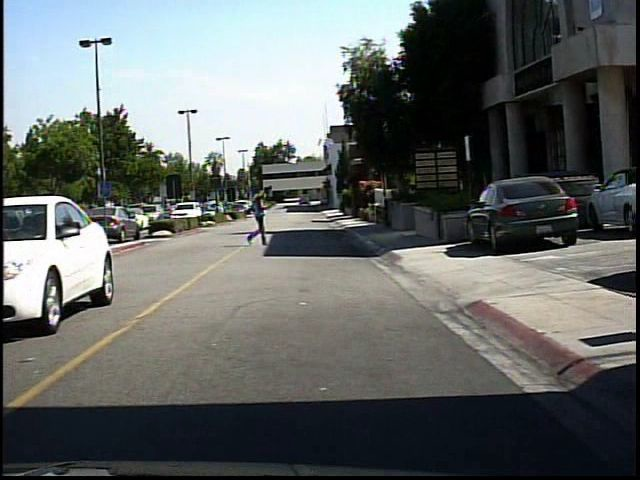person: (240, 186, 272, 249)
